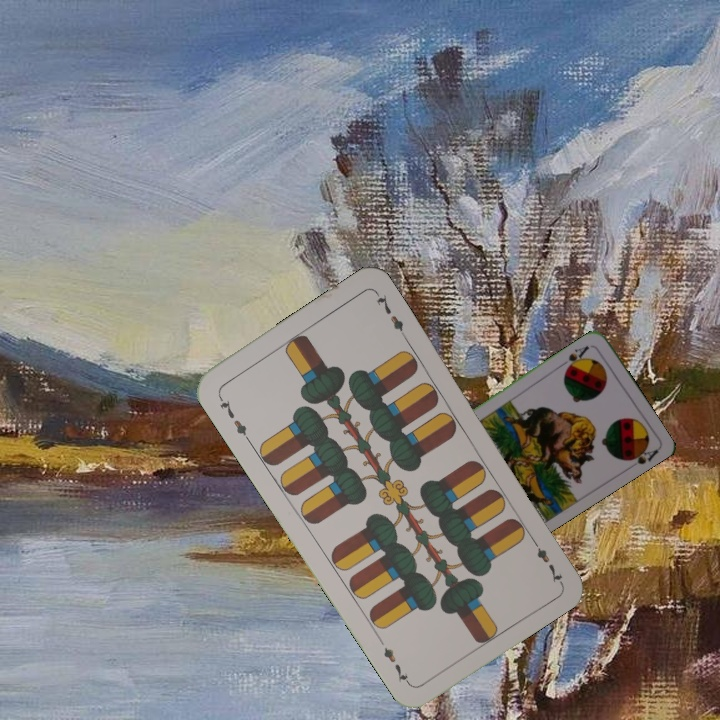E7: (526, 533, 565, 585), (214, 391, 252, 444)
SA: (557, 342, 592, 373)
